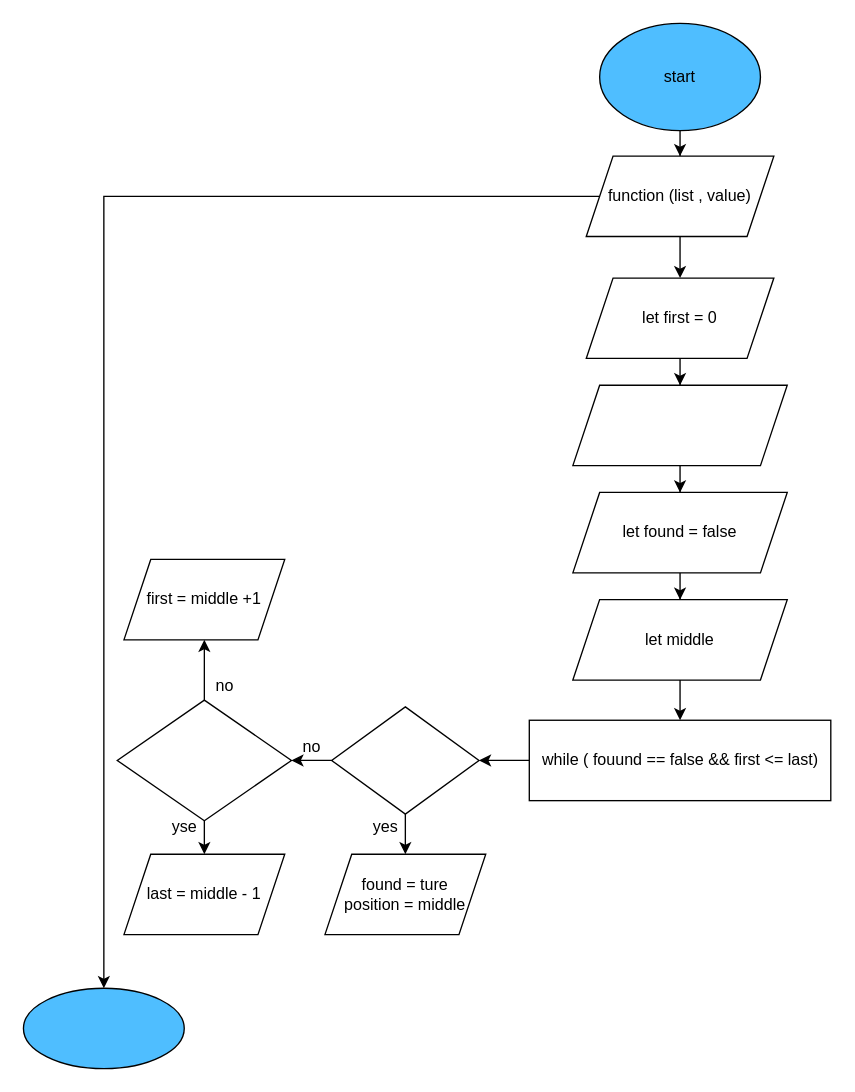
The diagram is 855 pixels wide and 1092 high, and some of its shapes have lost their labels. Each missing label, with the centre of its shape:
"end" goes at pixel 103 1028.
"if list == value" goes at pixel 404 760.
"let last = list.lenght - 1" goes at pixel 679 425.
"list[middle] == value" goes at pixel 203 760.
